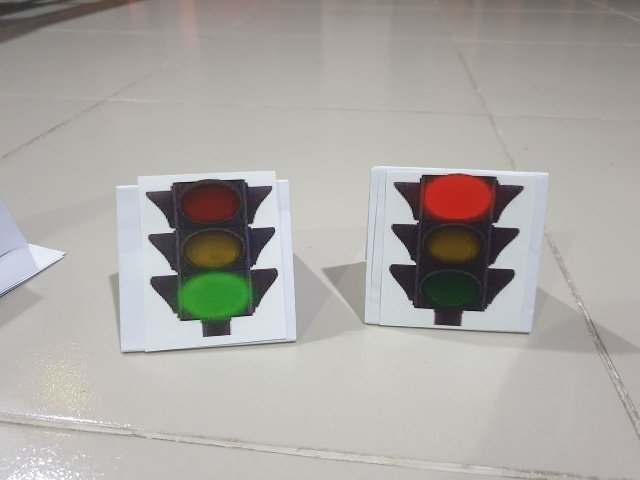Green: (135, 177, 285, 338)
Red: (385, 168, 525, 329)
